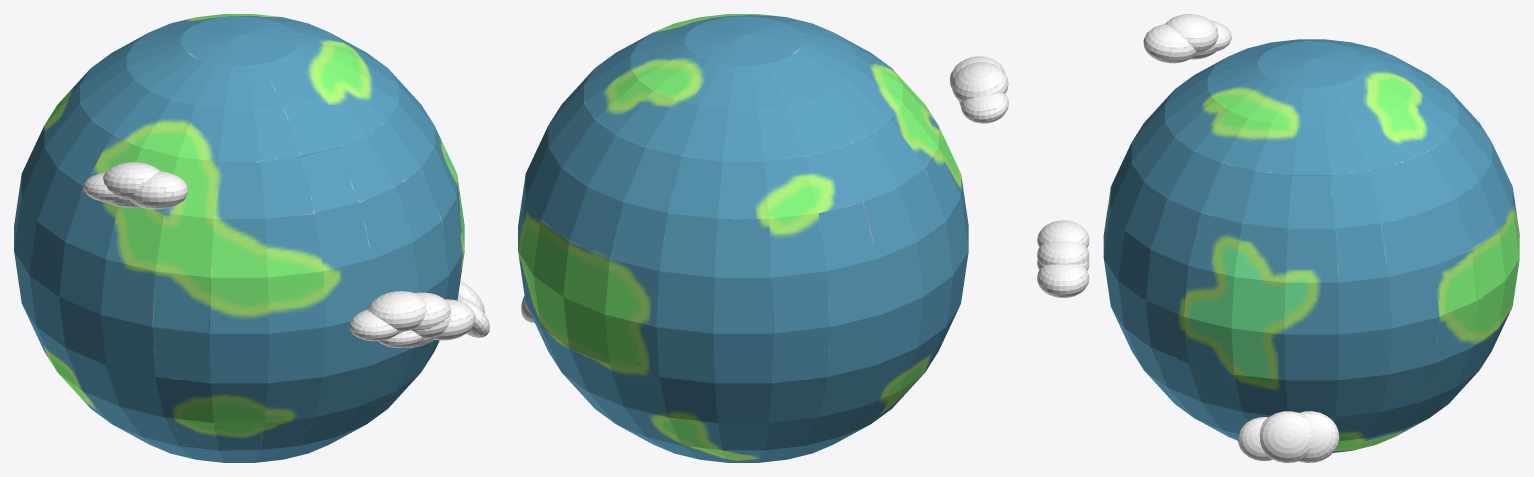
Rendered from Planteria.fbx.
3 views of the same model, side by side, from view 1: azimuth 30°, elevation 25°; view 2: azimuth 150°, elevation 25°; view 3: azimuth 270°, elevation 25° (orthographic). The views are drawn at different scales.
Parts seen in each view (by area): view 1: sphere, sphere_7, sphere_10, sphere_11, sphere_5, sphere_1, sphere_6, sphere_9, sphere_13, sphere_3; view 2: sphere, sphere_11, sphere_9; view 3: sphere, sphere_15, sphere_1, sphere_10, sphere_14, sphere_11, sphere_6, sphere_7, sphere_13.
Boxes of the visible parts, x1=… form: sphere: x1=14, y1=14, x2=464, y2=462; sphere_7: x1=368, y1=291, x2=426, y2=331; sphere_10: x1=130, y1=171, x2=188, y2=209; sphere_11: x1=103, y1=162, x2=160, y2=199; sphere_5: x1=349, y1=309, x2=399, y2=341; sphere_1: x1=433, y1=299, x2=475, y2=340; sphere_6: x1=411, y1=292, x2=450, y2=331; sphere_9: x1=83, y1=172, x2=118, y2=202; sphere_13: x1=457, y1=298, x2=489, y2=337; sphere_3: x1=378, y1=330, x2=423, y2=347; sphere: x1=518, y1=14, x2=968, y2=462; sphere_11: x1=952, y1=62, x2=1008, y2=102; sphere_9: x1=961, y1=93, x2=1008, y2=123; sphere: x1=1103, y1=39, x2=1519, y2=452; sphere_15: x1=1259, y1=411, x2=1312, y2=462; sphere_1: x1=1037, y1=264, x2=1089, y2=297; sphere_10: x1=1143, y1=24, x2=1196, y2=63; sphere_14: x1=1299, y1=411, x2=1339, y2=462; sphere_11: x1=1165, y1=14, x2=1218, y2=52; sphere_6: x1=1037, y1=240, x2=1089, y2=265; sphere_7: x1=1037, y1=220, x2=1089, y2=247; sphere_13: x1=1238, y1=417, x2=1272, y2=460.
Bounding box in the file's own units: 222 × 200 × 232.
2 materials, 2 textured.
